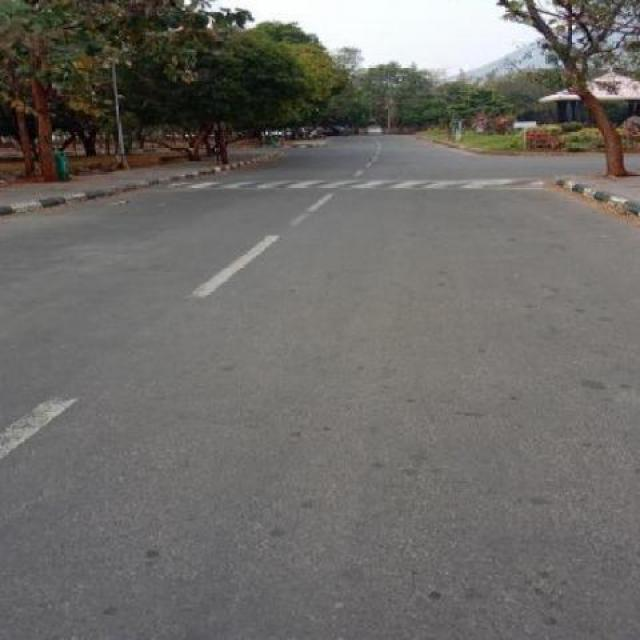Speed Bump: (166, 176, 565, 190)
